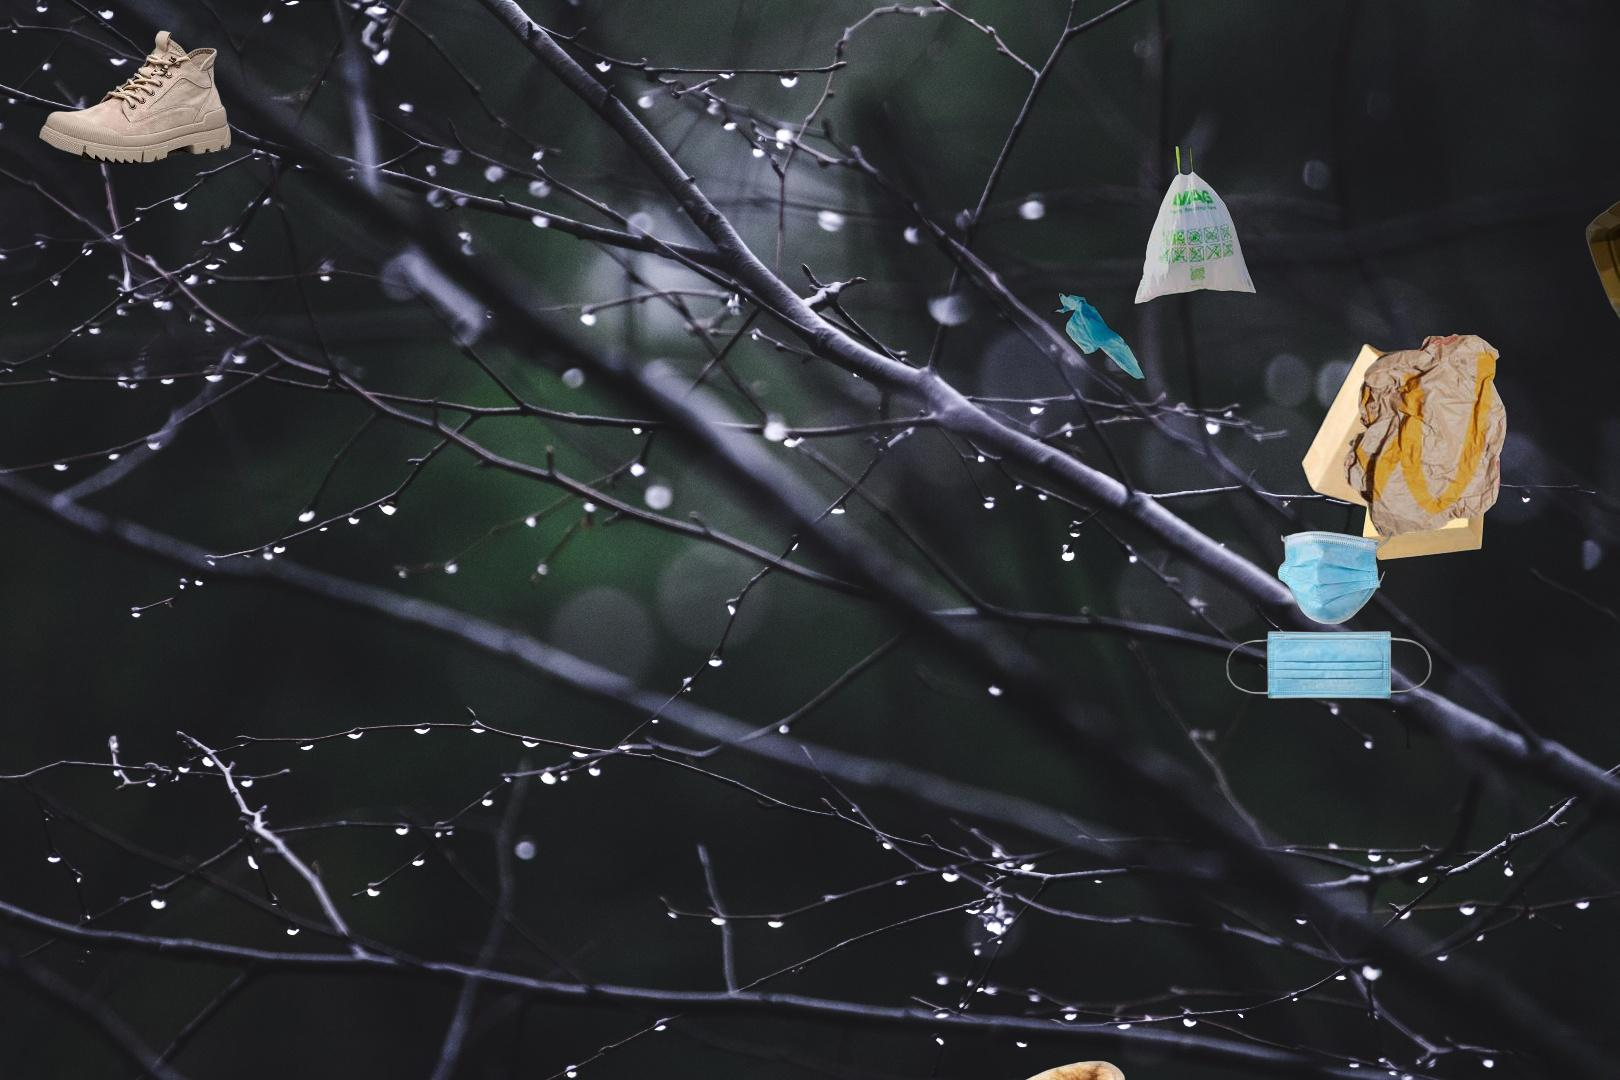biological: (1540, 1014, 1620, 1080)
paper: (1581, 140, 1620, 364)
paper-bag: (1301, 331, 1509, 563)
plastic-bag: (1047, 143, 1260, 381)
shoes: (36, 28, 234, 168), (856, 1060, 1135, 1080)
trash: (1223, 528, 1436, 702)
